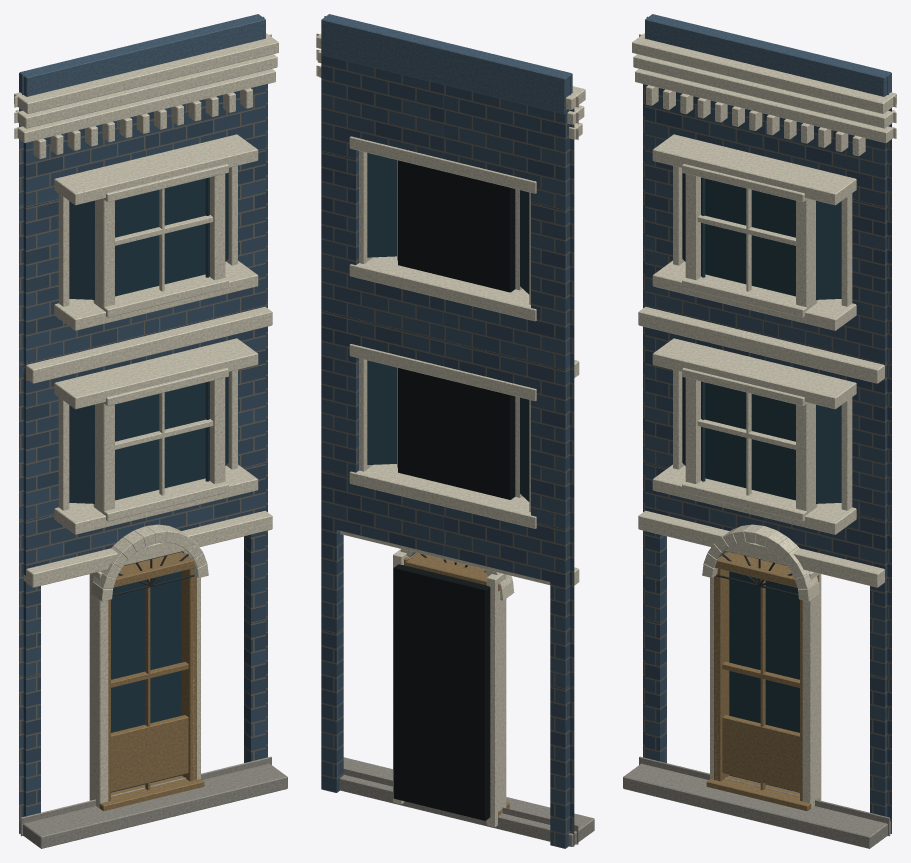
File: VICT3A_lod1.glb
3 views of the same model, side by side, from view 1: azimuth 30°, elevation 25°; view 2: azimuth 150°, elevation 25°; view 3: azimuth 330°, elevation 25° (orthographic).
Parts seen in each view (by area): view 1: VICT3A_FRONT_LOD1; view 2: VICT3A_FRONT_LOD1; view 3: VICT3A_FRONT_LOD1.
Part boxes in pixels (x1,y1,x2,y2): VICT3A_FRONT_LOD1: (14, 14, 287, 848); VICT3A_FRONT_LOD1: (316, 14, 594, 848); VICT3A_FRONT_LOD1: (623, 14, 896, 848).
Bounding box in the file's own units: 3.44 × 9.66 × 0.765.
Materials: 9 (7 with a texture image).
